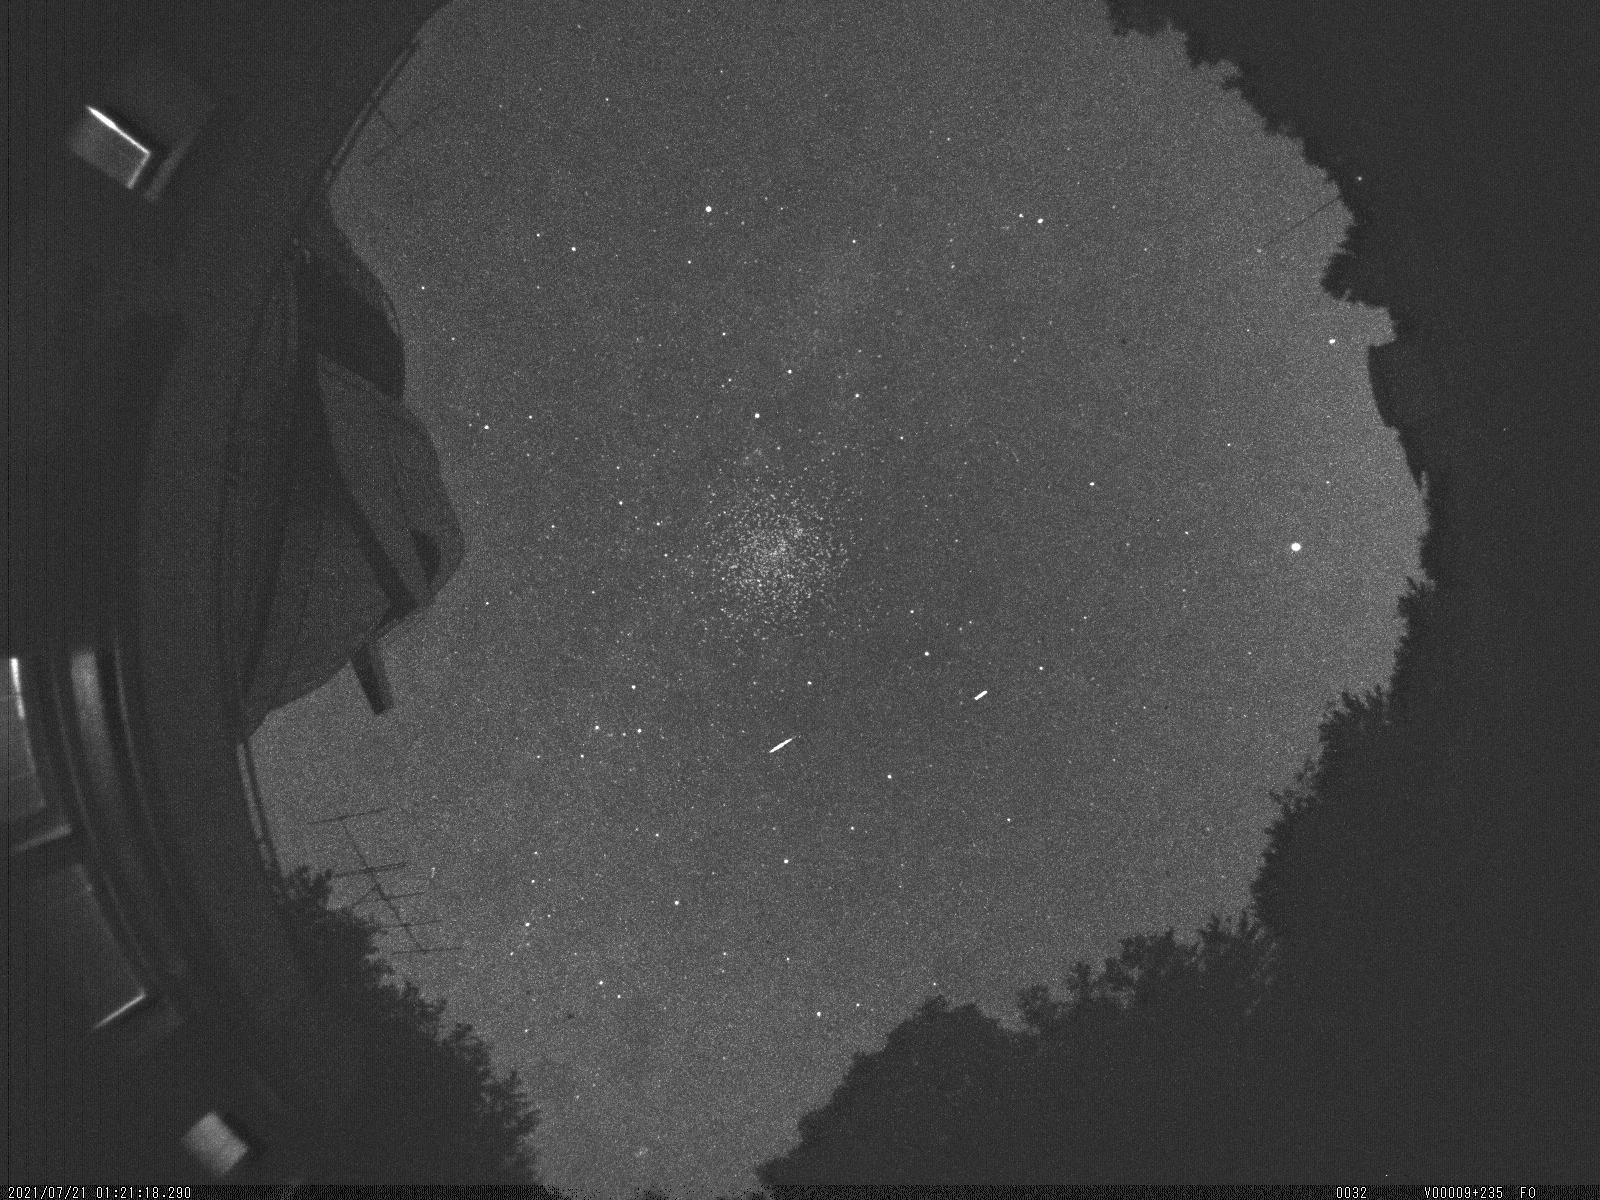Meteor: (757, 724, 809, 765)
